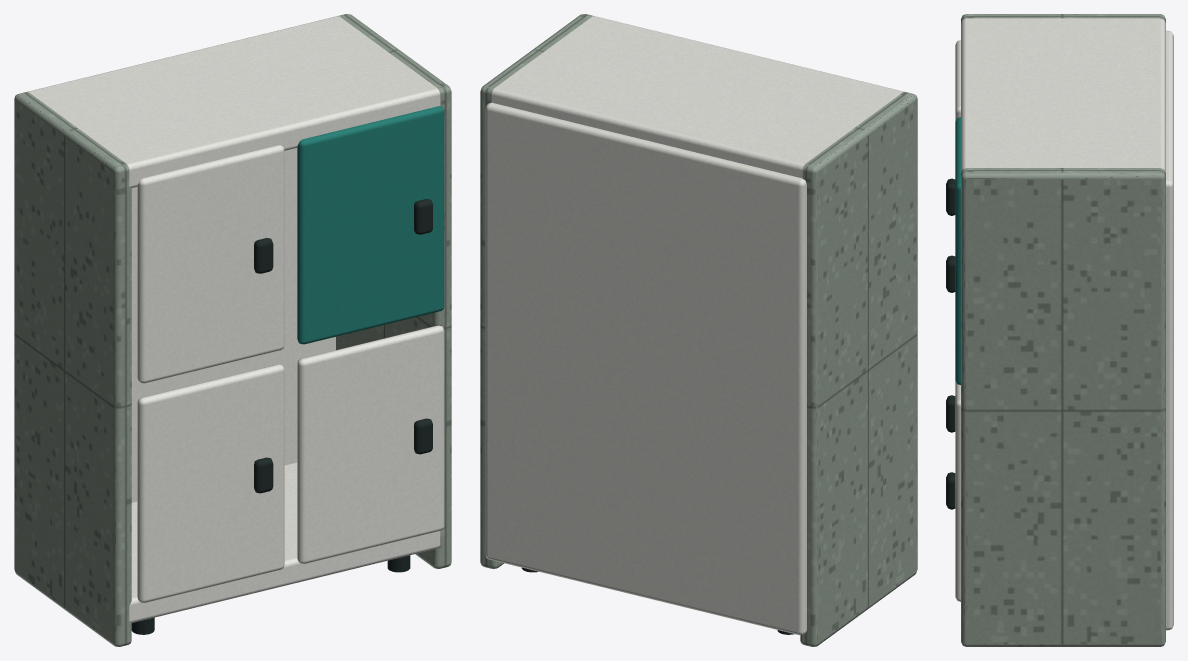
File: detail-storage-cabinet-1.glb
3 views of the same model, side by side, from view 1: azimuth 30°, elevation 25°; view 2: azimuth 150°, elevation 25°; view 3: azimuth 270°, elevation 25° (orthographic).
Visible parts, largest first — view 1: door (×4), cabinet_side (×2), cabinet_cap (×2), cabinet_back, lock (×4); view 2: cabinet_back, cabinet_side (×2), cabinet_cap; view 3: cabinet_side (×2), cabinet_cap, cabinet_back, door (×3), lock (×4).
Boxes of the visible parts, <box> form: door (×4): <box>137,106,444,602</box>; cabinet_side (×2): <box>14,14,451,646</box>; cabinet_cap (×2): <box>27,16,440,622</box>; cabinet_back: <box>131,148,335,502</box>; lock (×4): <box>254,199,432,493</box>; cabinet_back: <box>485,102,806,635</box>; cabinet_side (×2): <box>480,14,917,646</box>; cabinet_cap: <box>491,16,904,178</box>; cabinet_side (×2): <box>961,14,1165,646</box>; cabinet_cap: <box>961,18,1165,172</box>; cabinet_back: <box>1166,30,1173,630</box>; door (×3): <box>955,40,960,601</box>; lock (×4): <box>946,178,955,509</box>.
Bounding box in the file's own units: 0.845 × 1.15 × 0.5.
Materials: 4 (4 with a texture image).
